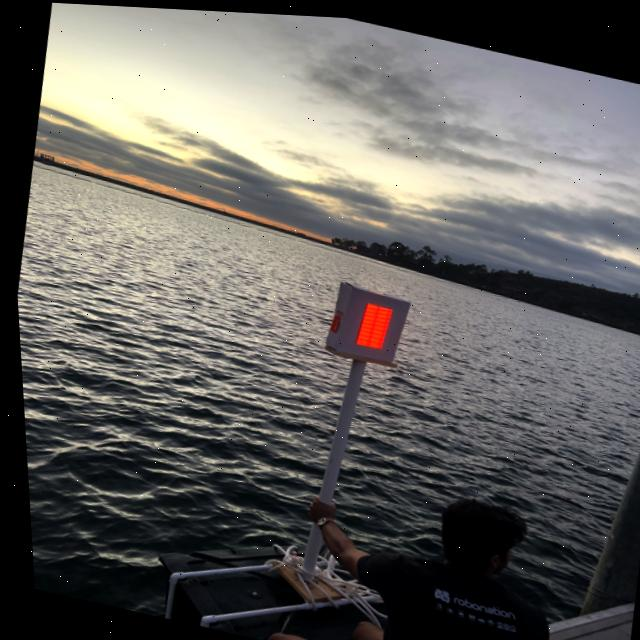led: (338, 279, 404, 363)
